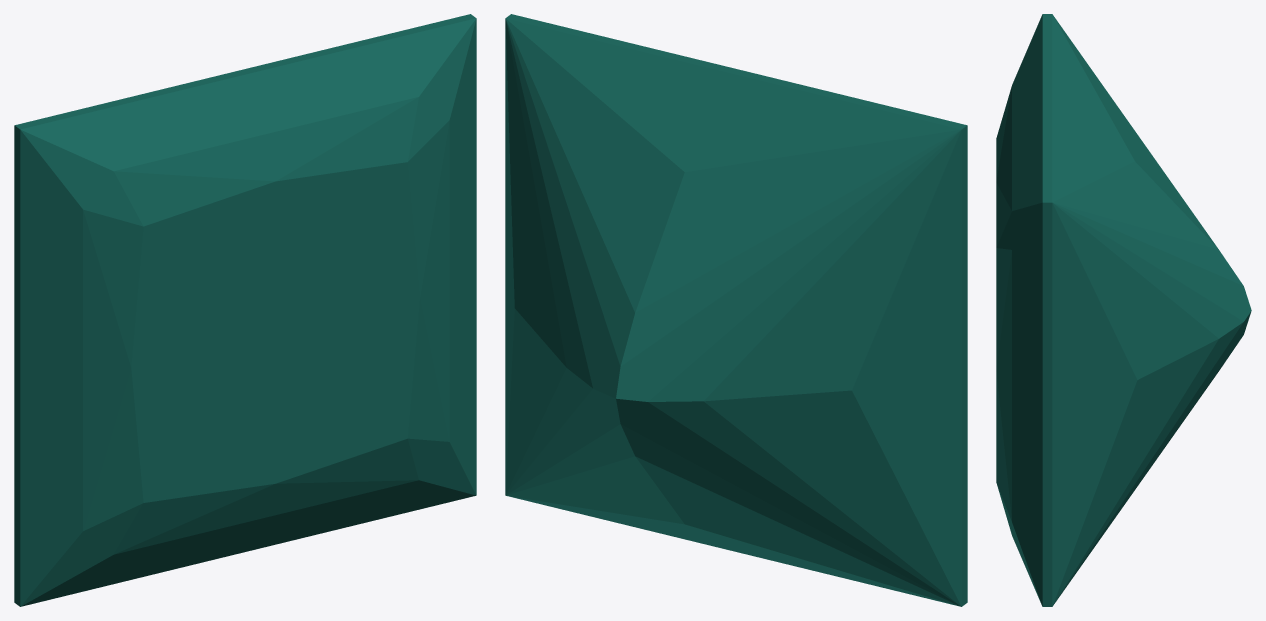
File: sophia.glb
3 views of the same model, side by side, from view 1: azimuth 30°, elevation 25°; view 2: azimuth 150°, elevation 25°; view 3: azimuth 270°, elevation 25° (orthographic). The views are drawn at different scales.
Visible parts, largest first — view 1: Sophia; view 2: Sophia; view 3: Sophia.
Boxes of the visible parts, left/top/right/bottom form: Sophia: left=14, top=14, right=476, bottom=606; Sophia: left=505, top=14, right=967, bottom=606; Sophia: left=996, top=14, right=1251, bottom=606.
Size of the model in its own units: 2 by 2 by 1.14.
